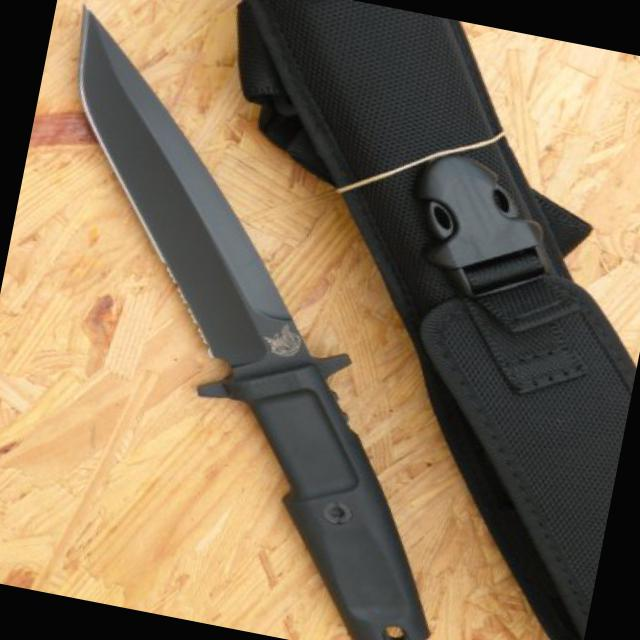knife: (8, 0, 417, 431)
